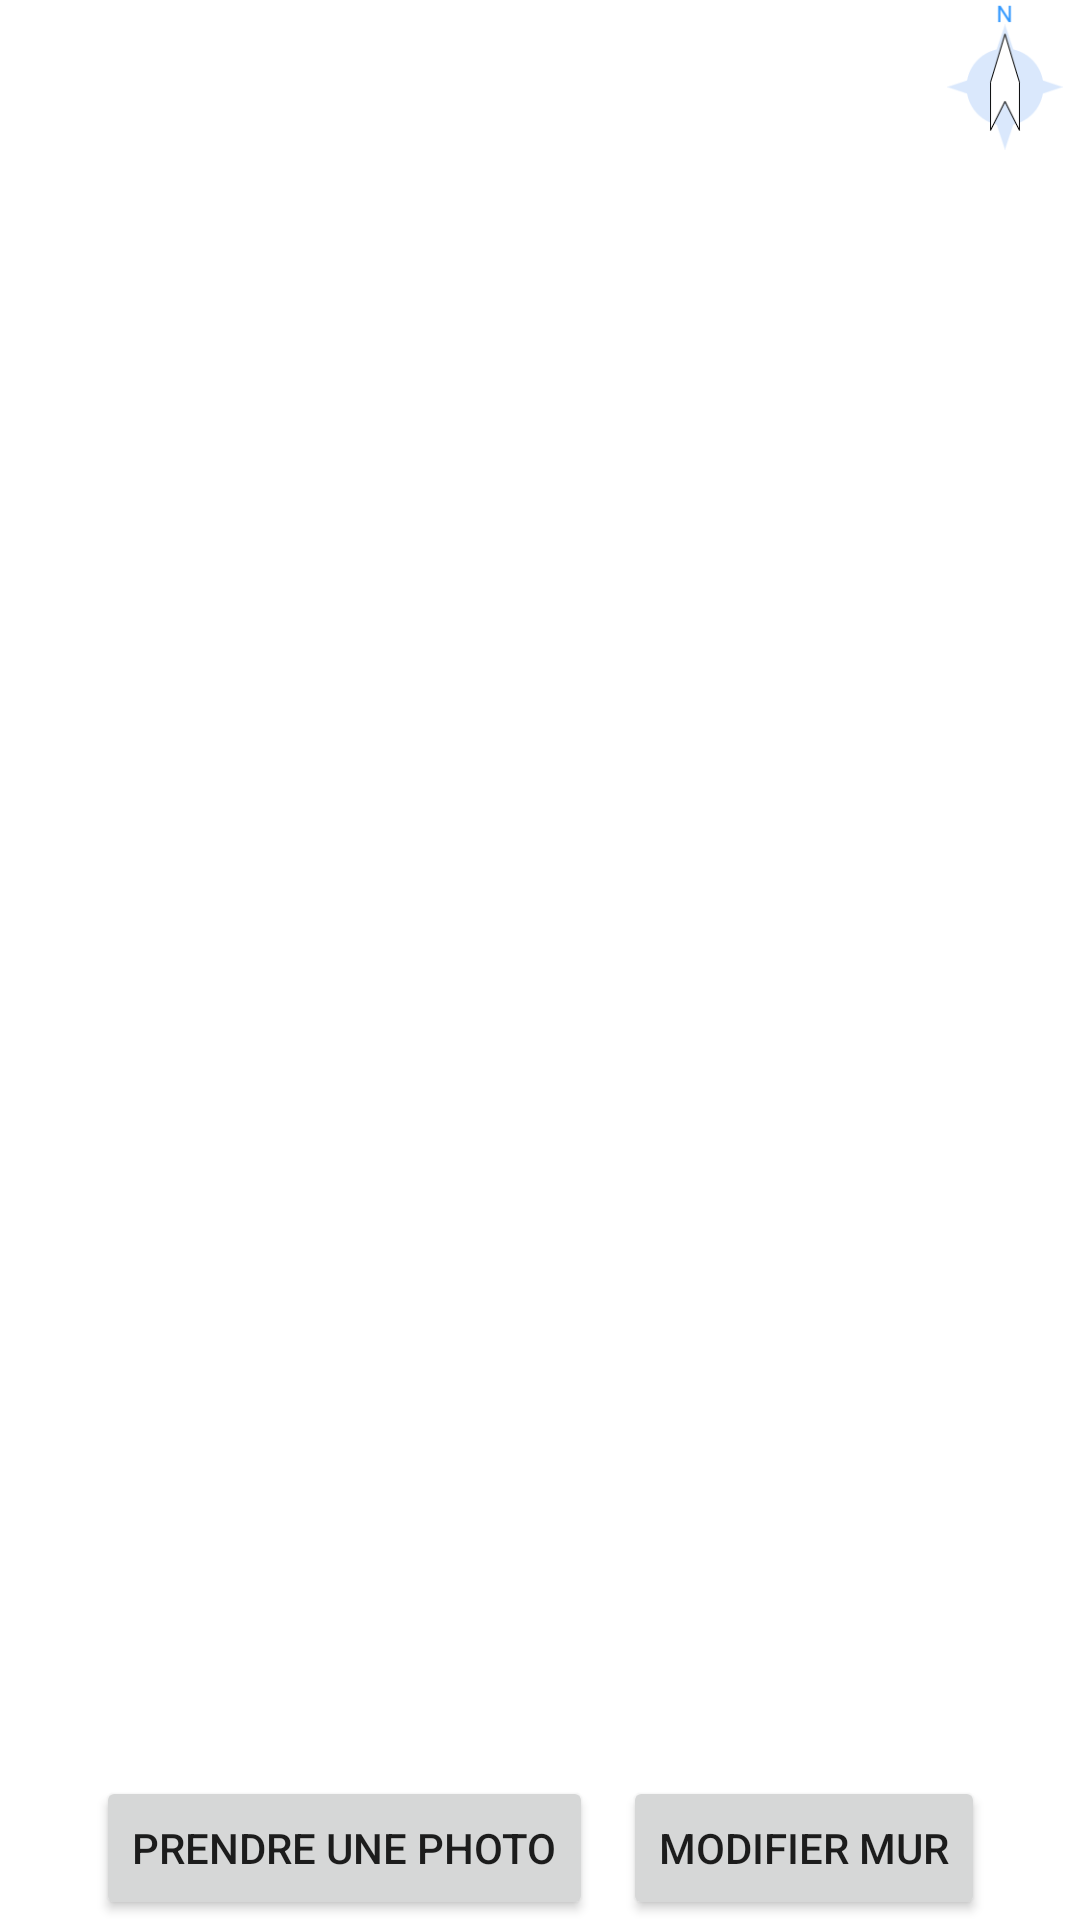

Icon click points for this 1080 × 1920 phone screenshot, format (x,y):
compass: (1005,76)
